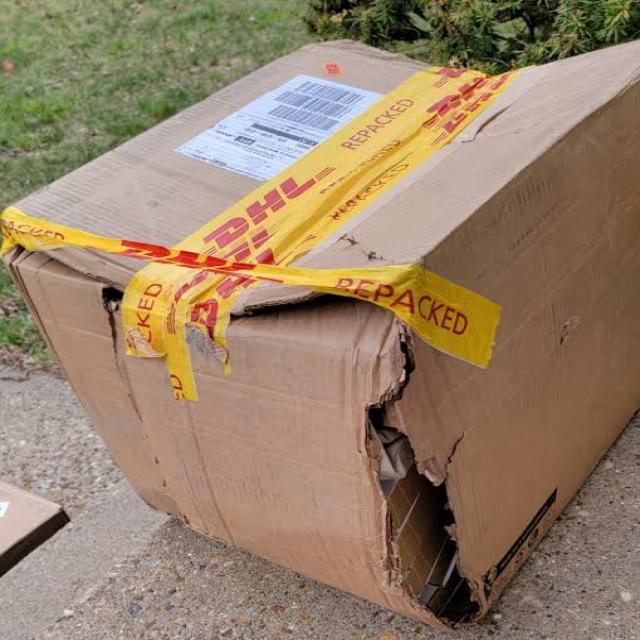carton_box: (1, 28, 640, 639)
export_mark_label: (180, 74, 389, 190)
package_damage: (0, 192, 435, 374), (312, 268, 524, 640)
